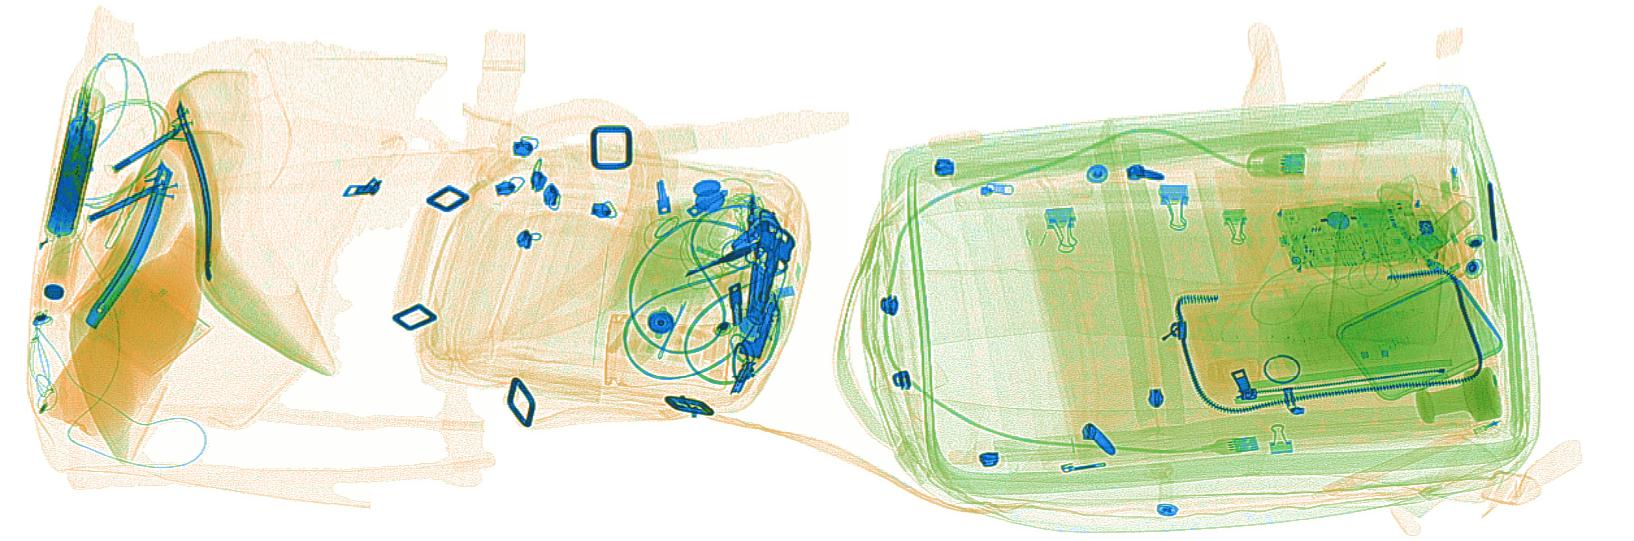battery: (44, 87, 109, 245)
seal: (1416, 367, 1502, 425)
